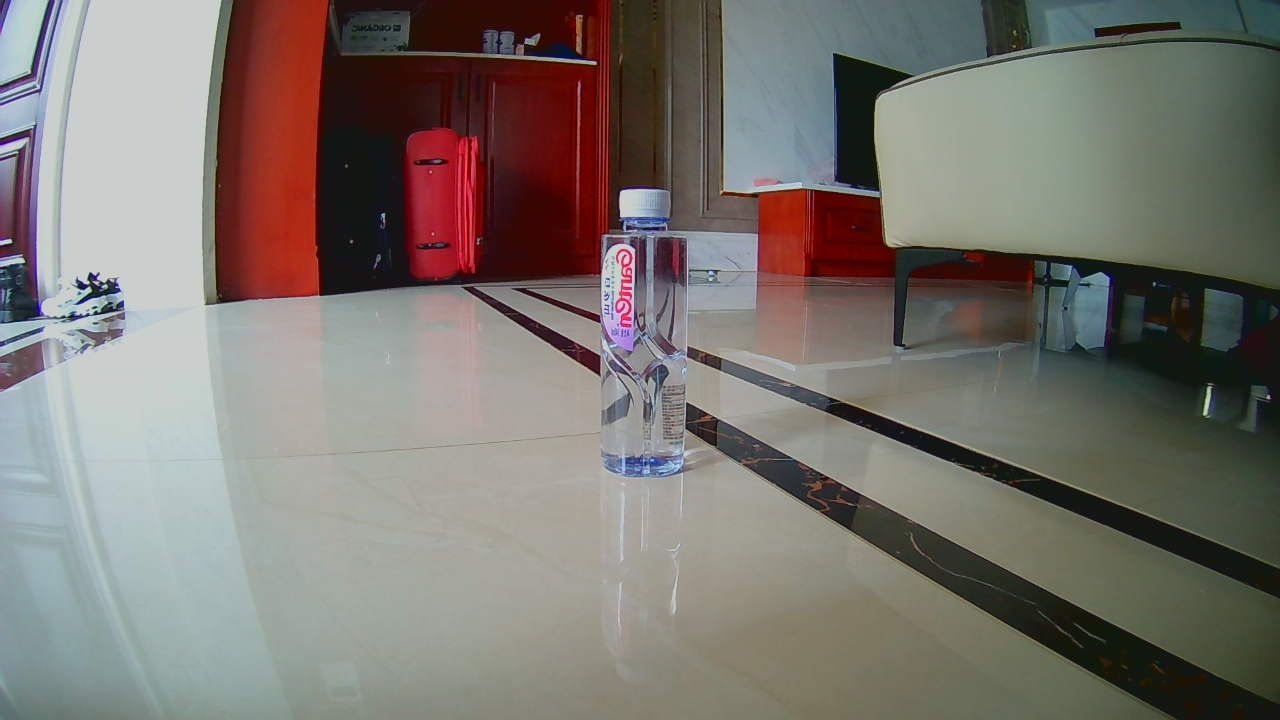water: (600, 183, 691, 481)
